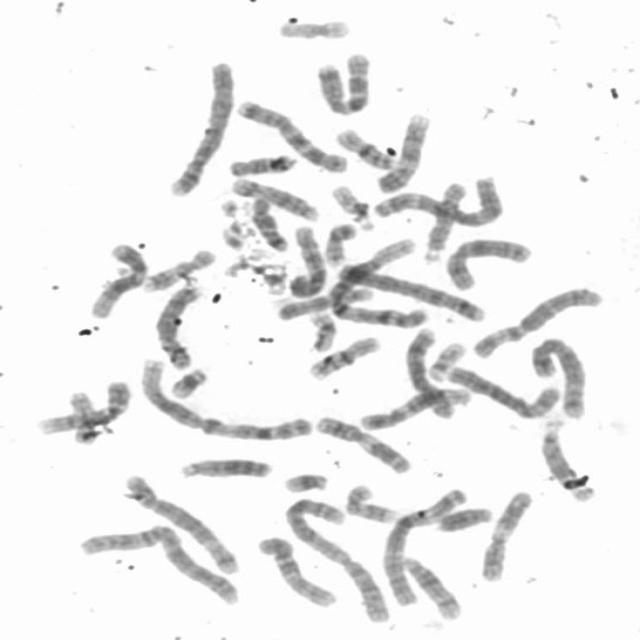A1: (132, 353, 316, 443), (322, 233, 430, 330)
A2: (71, 519, 245, 607), (280, 493, 394, 624)
A3: (376, 482, 470, 609), (372, 173, 508, 227)
B4: (163, 56, 237, 198), (331, 257, 488, 323)
B5: (117, 468, 243, 576), (525, 332, 590, 420)
C10: (251, 529, 340, 610), (284, 220, 328, 298)
C11: (309, 410, 415, 476), (476, 485, 537, 584)
C12: (354, 381, 474, 432), (83, 237, 150, 320)
C6: (467, 280, 606, 360), (442, 360, 566, 420)
C7: (232, 94, 353, 174), (312, 47, 375, 117)
C8: (399, 323, 457, 420), (150, 279, 206, 372)
C9: (30, 376, 134, 436), (372, 108, 434, 195)
D13: (536, 414, 599, 503), (174, 452, 276, 482)
D14: (395, 550, 464, 621), (225, 174, 322, 223)
D15: (418, 176, 470, 264), (270, 282, 375, 322)
E16: (304, 330, 383, 381), (330, 123, 400, 172)
E17: (138, 244, 218, 294), (340, 480, 401, 524)
E18: (245, 194, 292, 252), (223, 148, 299, 178)
F19: (273, 13, 353, 41), (302, 307, 339, 353)
F20: (320, 217, 360, 266), (64, 388, 98, 444)
G21: (163, 362, 211, 401), (278, 468, 332, 494)
G22: (324, 179, 378, 231), (423, 336, 469, 381)
X: (440, 233, 536, 292)
Y: (431, 501, 496, 534)
